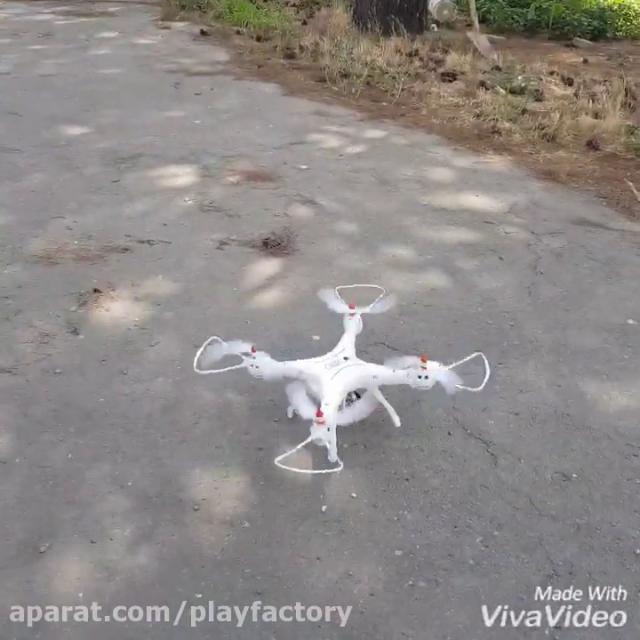drone: (191, 280, 494, 477)
